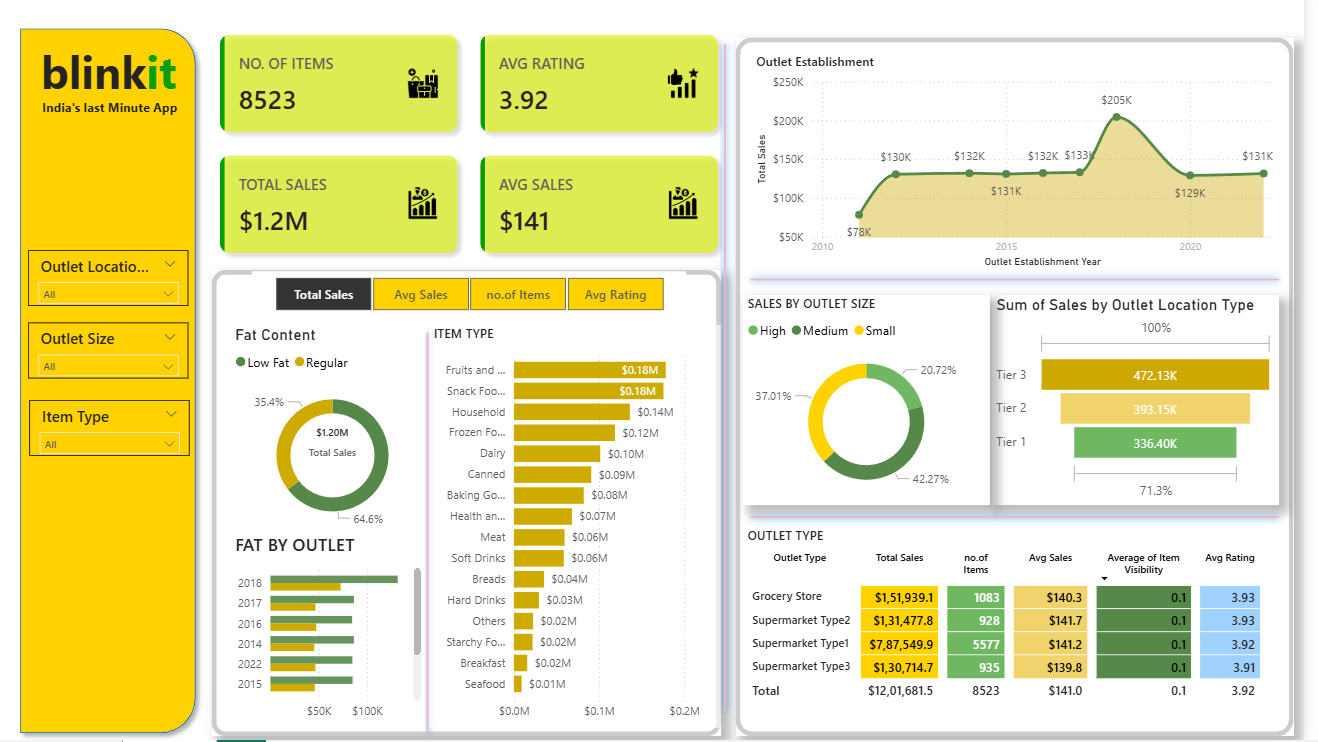

Layout of this report page (visuals, bound fields, positions):
{"tool":"powerbi","page":{"name":"Page 1","canvas":[1400,800],"ordinal":0},"visuals":[{"type":"shape","box":[15.4,26.2,206.2,773.8],"z":0},{"type":"textbox","box":[34.9,44.2,167.6,77.7],"z":1000},{"type":"textbox","box":[17.4,105.9,205.1,33.5],"z":2000},{"type":"cardVisual","fields":{"Data":["BlinkIT Grocery Data.no.of Items","BlinkIT Grocery Data.Avg Rating","BlinkIT Grocery Data.Total Sales","BlinkIT Grocery Data.Avg Sales"]},"box":[221.2,25.5,569.7,269.4],"z":3000},{"type":"shape","box":[229.2,295.4,546.2,500],"z":4000},{"type":"donutChart","title":" Fat Content","fields":{"Y":["BlinkIT Grocery Data.Total Sales"],"Category":["BlinkIT Grocery Data.Item Fat Content"]},"box":[250,353.6,219,231],"z":5000},{"type":"slicer","fields":{"Values":["METRICS.METRICS"]},"box":[272.6,296.4,465.5,48.8],"z":6000},{"type":"card","fields":{"Values":["BlinkIT Grocery Data.Total Sales"]},"box":[315.4,452.7,87.5,51.3],"z":7000},{"type":"clusteredBarChart","title":"FAT BY OUTLET","fields":{"Y":["BlinkIT Grocery Data.Total Sales"],"Category":["BlinkIT Grocery Data.Outlet Establishment Year"],"Series":["BlinkIT Grocery Data.Item Fat Content"]},"box":[250,576.2,209.5,209.5],"z":8000},{"type":"shape","box":[451.2,353.6,17.9,446.4],"z":9000},{"type":"barChart","title":"ITEM TYPE","fields":{"Y":["BlinkIT Grocery Data.Total Sales"],"Category":["BlinkIT Grocery Data.Item Type"]},"box":[461.9,353.6,313.1,432.1],"z":10000},{"type":"shape","box":[790.8,46.2,598.5,749.2],"z":11000},{"type":"lineChart","title":"Outlet Establishment","fields":{"Y":["BlinkIT Grocery Data.Total Sales"],"Category":["BlinkIT Grocery Data.Outlet Establishment Year"]},"box":[807.7,61.5,566.2,235.4],"z":12000},{"type":"shape","box":[767.7,44.6,23.1,732.3],"z":13000},{"type":"shape","box":[798.5,287.7,583.1,33.8],"z":14000},{"type":"donutChart","title":"SALES BY OUTLET SIZE","fields":{"Series":["BlinkIT Grocery Data.Outlet Size"],"Y":["Sum(BlinkIT Grocery Data.Sales)"]},"box":[798.5,321.5,264.6,224.6],"z":15000},{"type":"funnel","fields":{"Y":["Sum(BlinkIT Grocery Data.Sales)"],"Category":["BlinkIT Grocery Data.Outlet Location Type"]},"box":[1066.2,321.5,307.7,224.6],"z":16000},{"type":"shape","box":[798.5,543.1,583.1,33.8],"z":17000},{"type":"pivotTable","title":"OUTLET TYPE","fields":{"Rows":["BlinkIT Grocery Data.Outlet Type"],"Values":["BlinkIT Grocery Data.Total Sales","BlinkIT Grocery Data.no.of Items","BlinkIT Grocery Data.Avg Sales","Avg(BlinkIT Grocery Data.Item Visibility)","BlinkIT Grocery Data.Avg Rating"]},"box":[798.5,569.2,575.4,216.9],"z":18000},{"type":"slicer","fields":{"Values":["BlinkIT Grocery Data.Outlet Location Type"]},"box":[32.3,273.8,172.3,60],"z":19000},{"type":"slicer","fields":{"Values":["BlinkIT Grocery Data.Outlet Size"]},"box":[32.3,350.8,172.3,60],"z":20000},{"type":"slicer","fields":{"Values":["BlinkIT Grocery Data.Item Type"]},"box":[33.8,433.8,172.3,60],"z":21000}]}

Visuals, with their boxes in screenshot pixels (x1, y1, x2, y2), scaled from the page's 1400x800 canvas onto the 1318x742 screenshot:
shape: left=14, top=24, right=209, bottom=741
textbox: left=33, top=41, right=191, bottom=113
textbox: left=16, top=98, right=209, bottom=129
cardVisual - BlinkIT Grocery Data.no.of Items x BlinkIT Grocery Data.Avg Rating: left=208, top=24, right=745, bottom=274
shape: left=216, top=274, right=730, bottom=738
" Fat Content" donutChart: left=235, top=328, right=442, bottom=542
slicer - METRICS.METRICS: left=257, top=275, right=695, bottom=320
card - BlinkIT Grocery Data.Total Sales: left=297, top=420, right=379, bottom=467
"FAT BY OUTLET" clusteredBarChart: left=235, top=534, right=433, bottom=729
shape: left=425, top=328, right=442, bottom=741
"ITEM TYPE" barChart: left=435, top=328, right=730, bottom=729
shape: left=744, top=43, right=1308, bottom=738
"Outlet Establishment" lineChart: left=760, top=57, right=1293, bottom=275
shape: left=723, top=41, right=744, bottom=721
shape: left=752, top=267, right=1301, bottom=298
"SALES BY OUTLET SIZE" donutChart: left=752, top=298, right=1001, bottom=507
funnel - Sum(BlinkIT Grocery Data.Sales) x BlinkIT Grocery Data.Outlet Location Type: left=1004, top=298, right=1293, bottom=507
shape: left=752, top=504, right=1301, bottom=535
"OUTLET TYPE" pivotTable: left=752, top=528, right=1293, bottom=729
slicer - BlinkIT Grocery Data.Outlet Location Type: left=30, top=254, right=193, bottom=310
slicer - BlinkIT Grocery Data.Outlet Size: left=30, top=325, right=193, bottom=381
slicer - BlinkIT Grocery Data.Item Type: left=32, top=402, right=194, bottom=458
